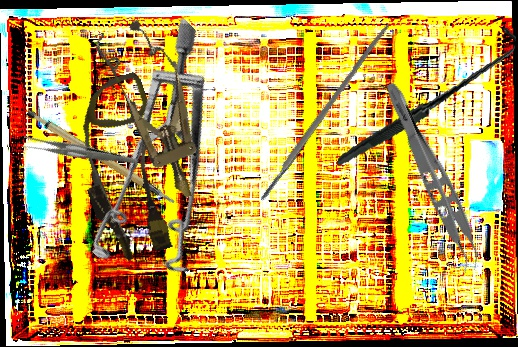Cannula: (57, 70, 193, 267)
Dressing Forceps: (19, 107, 138, 198)
Hook Surgical: (337, 9, 517, 185)
Scalpel Handle: (257, 21, 392, 202), (24, 91, 176, 226)
Speculum: (19, 16, 313, 310), (88, 12, 223, 210)
Tissue Forceps: (368, 79, 492, 277)
